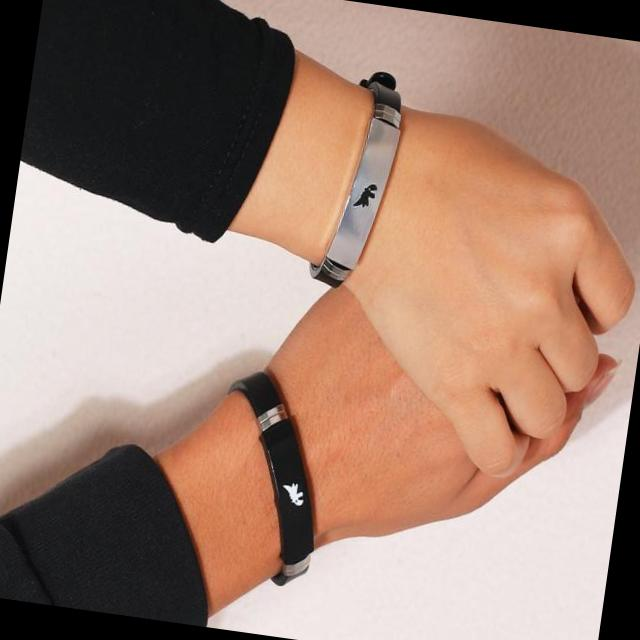Nail: (579, 360, 629, 413)
